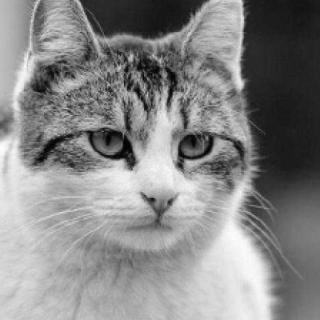cat: (14, 0, 259, 262)
nose: (136, 174, 182, 220)
